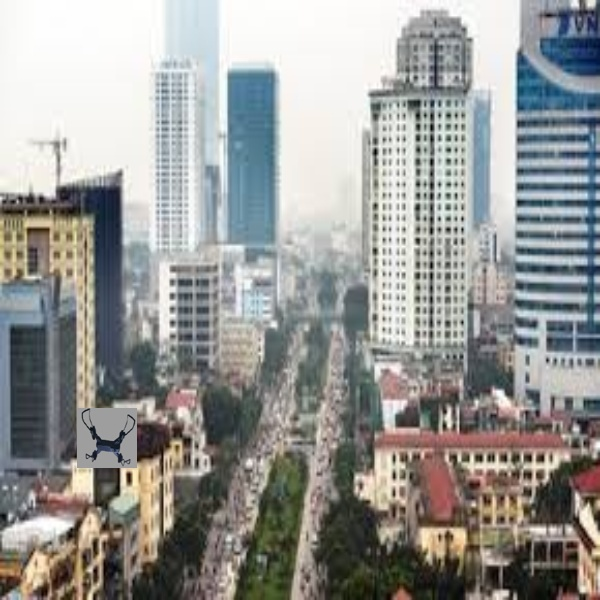drone: (78, 405, 139, 472)
